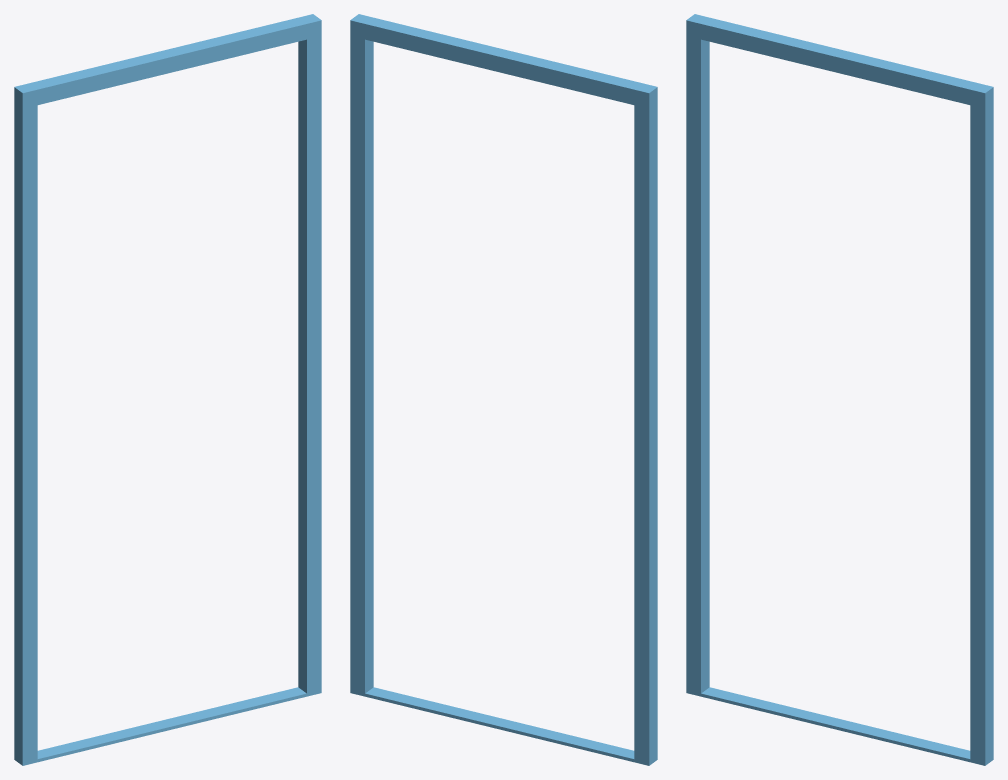
Rendered from door_clearance_0p9x2p1.glb.
3 views of the same model, side by side, from view 1: azimuth 30°, elevation 25°; view 2: azimuth 150°, elevation 25°; view 3: azimuth 330°, elevation 25° (orthographic).
Visible parts, largest first — view 1: door_clearance_0p9x2p1; view 2: door_clearance_0p9x2p1; view 3: door_clearance_0p9x2p1.
Boxes of the visible parts, left/top/right/bottom form: door_clearance_0p9x2p1: left=14, top=14, right=321, bottom=765; door_clearance_0p9x2p1: left=350, top=14, right=657, bottom=765; door_clearance_0p9x2p1: left=686, top=14, right=993, bottom=765.
Bounding box in the file's own units: 1 × 2.15 × 0.05.
